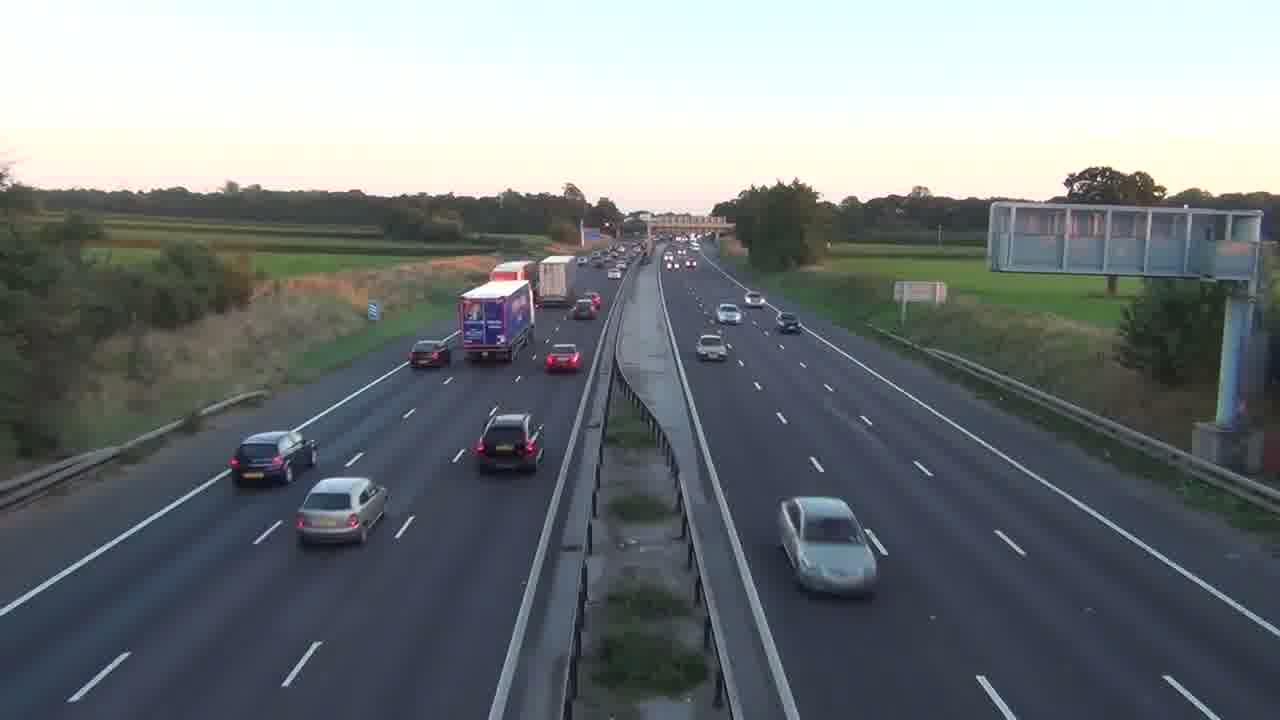bus: (457, 279, 535, 363)
car: (777, 496, 889, 598), (294, 476, 389, 548), (228, 429, 320, 487), (471, 410, 546, 474), (408, 339, 450, 369), (544, 342, 582, 373), (696, 333, 729, 362), (569, 297, 598, 320), (716, 303, 742, 325), (777, 312, 801, 334)
